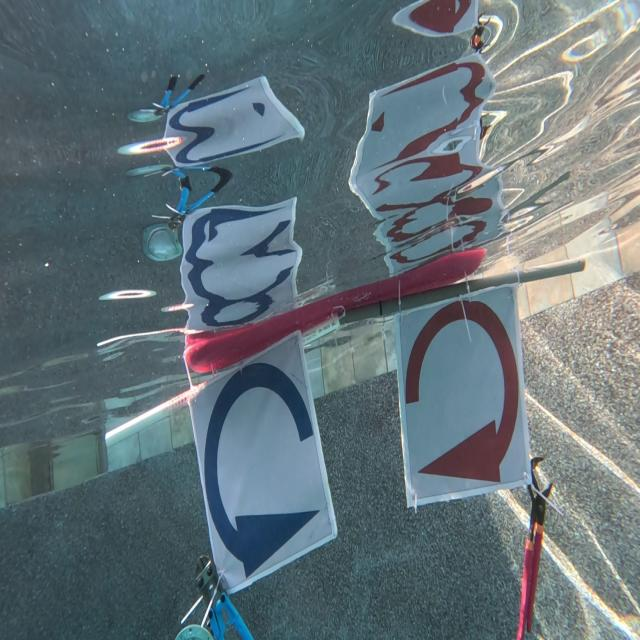blue_side: (202, 359, 316, 580)
red_side: (406, 296, 516, 488)
